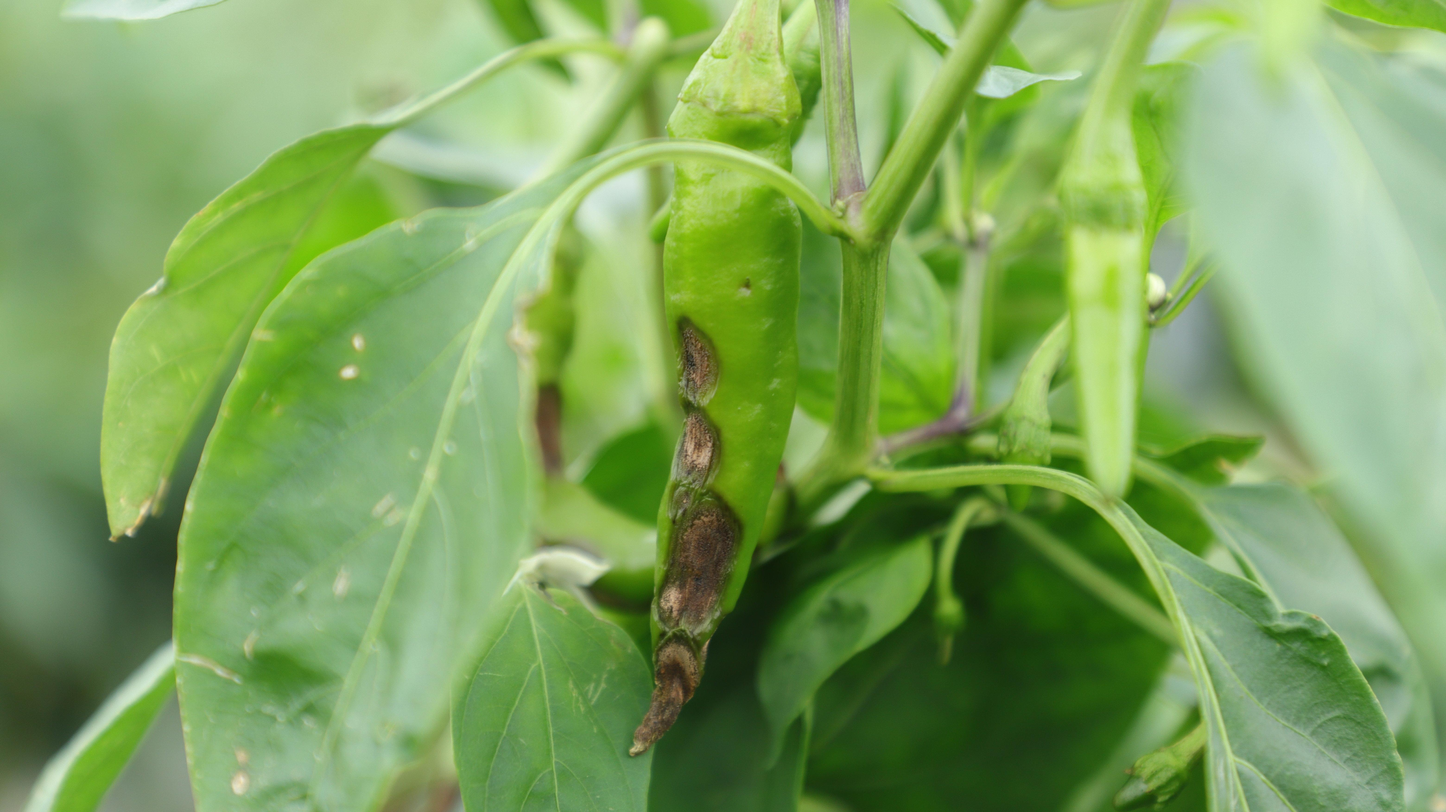Bercak Daun Serkospora: (167, 179, 561, 812)
Buah Cabai Sehat: (1050, 161, 1183, 511)
Busuk Buah Antraknosa: (624, 1, 807, 758)
